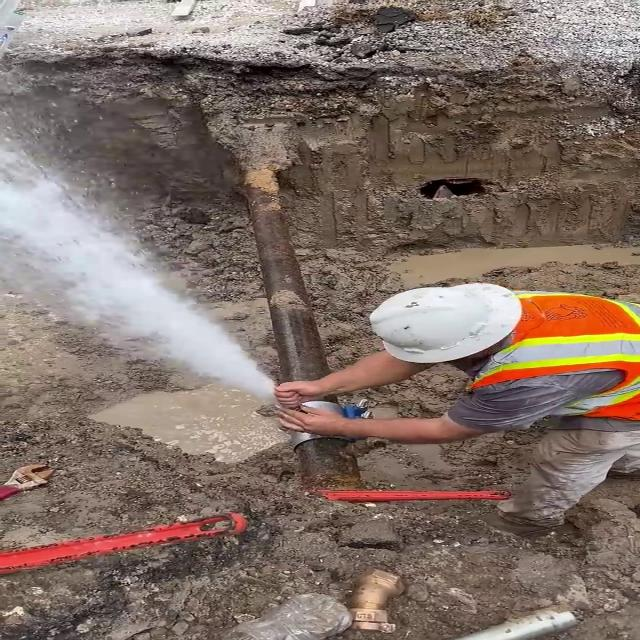leak: (0, 137, 279, 412)
